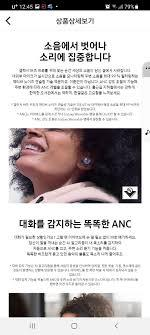earphone: (79, 156, 94, 166)
